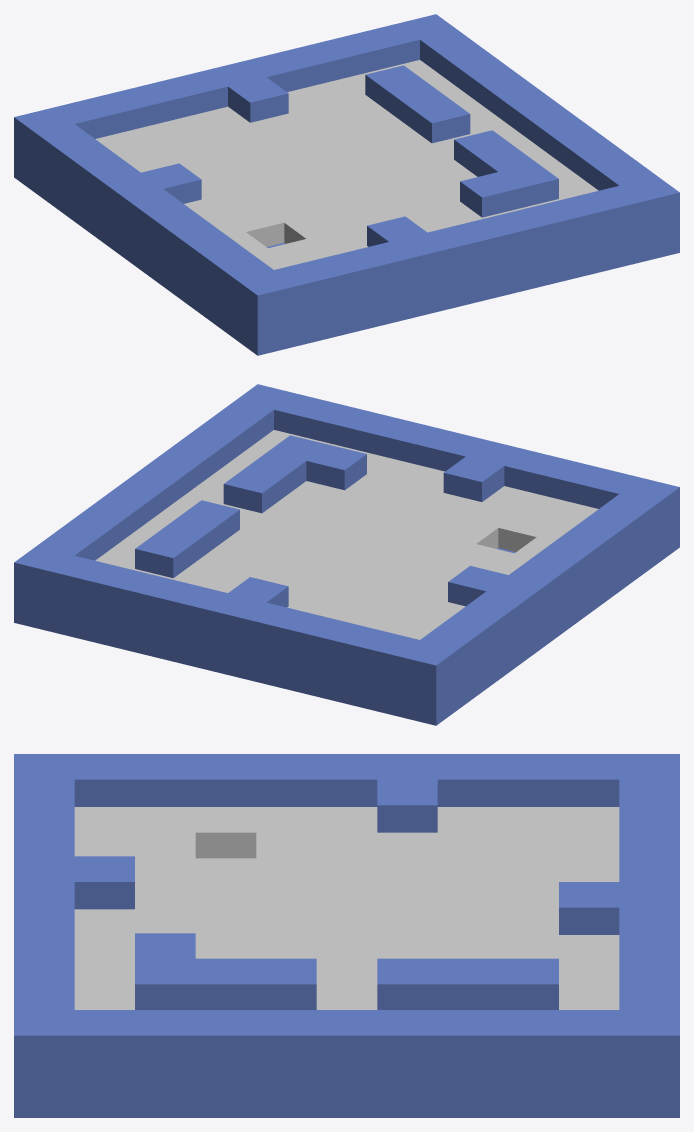
File: 042_platform.fbx
The picture shows the model from 3 angles, top to bottom: view 1: azimuth 30°, elevation 25°; view 2: azimuth 150°, elevation 25°; view 3: azimuth 270°, elevation 25°; orthographic projection. The views are drawn at different scales.
Visible parts, largest first — view 1: Cube; view 2: Cube; view 3: Cube.
Boxes of the visible parts, x1,y1,x2,y2 form: Cube: (14,14,679,355); Cube: (14,384,679,725); Cube: (14,754,679,1117).
Size of the model in its own units: 1100 by 150 by 1100.
